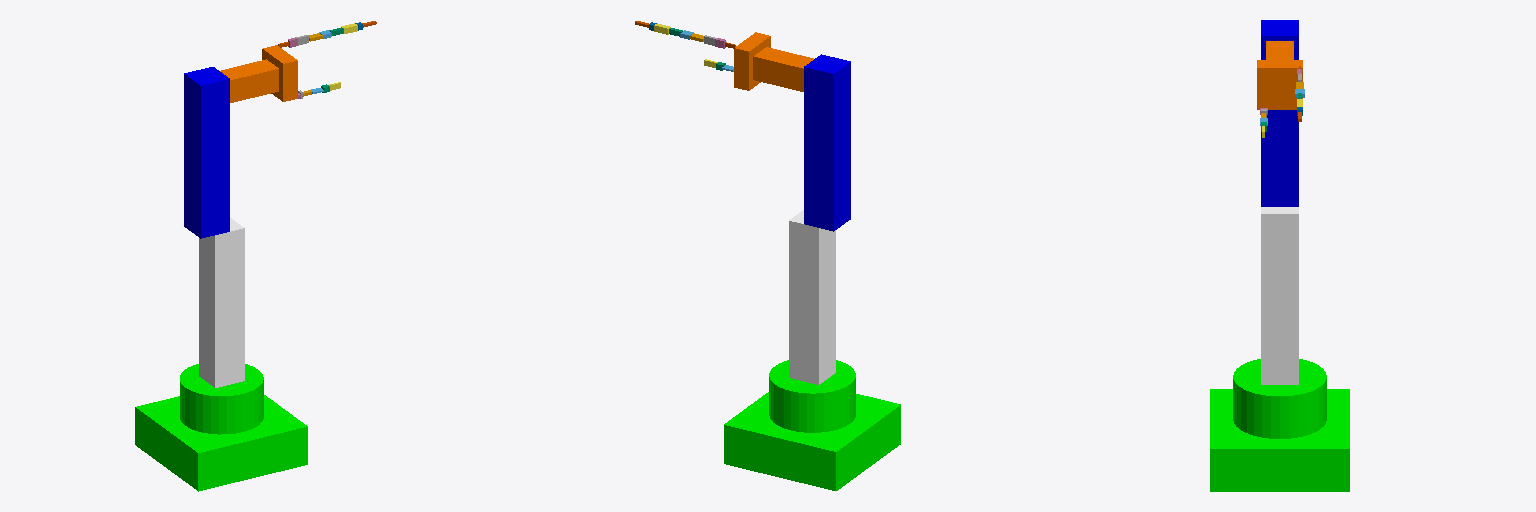
URDF robot description (robot):
<?xml version='1.0' encoding='utf-8'?>
<robot name="robot">
  <link name="base_link">
    <visual>
      <origin xyz="0 0 0.125" rpy="0 0 0" />
      <geometry>
        <box size="0.75 0.75 0.25" />
      </geometry>
      <material name="green" />
    </visual>
    <visual>
      <origin xyz="0 0 0.375" rpy="0 0 0" />
      <geometry>
        <cylinder length="0.25" radius="0.25" />
      </geometry>
      <material name="green">
        <color rgba="0 1 0 1" />
      </material>
    </visual>
    <collision>
      <geometry>
        <box size="0.75 0.75 0.5" />
      </geometry>
    </collision>
    <inertial>
      <mass value="0.5" />
      <inertia ixx="0.034" ixy="0.0" ixz="0.0" iyy="0.034" iyz="0.0" izz="0.034" />
    </inertial>
  </link>
  <link name="support_link">
    <visual>
      <origin xyz="0 0 0.5" rpy="0 0 0" />
      <geometry>
        <box size="0.2 0.2 1" />
      </geometry>
      <material name="white">
        <color rgba="1 1 1 1" />
      </material>
    </visual>
    <collision>
      <geometry>
        <box size="0.2 0.2 1" />
      </geometry>
    </collision>
    <inertial>
      <mass value="0.1" />
      <inertia ixx="0.01" ixy="0.0" ixz="0.0" iyy="0.01" iyz="0.0" izz="0.01" />
    </inertial>
  </link>
  <joint name="support_joint" type="continuous">
    <origin xyz="0 0 0.5" rpy="0 0 0" />
    <parent link="base_link" />
    <child link="support_link" />
    <axis xyz="0 0 1" />
  </joint>
  <link name="arm_link">
    <visual>
      <origin xyz="0 0 0.5" rpy="0 0 0" />
      <geometry>
        <box size="0.2 0.2 1" />
      </geometry>
      <material name="blue">
        <color rgba="0 0 1 1" />
      </material>
    </visual>
    <collision>
      <geometry>
        <box size="0.2 0.2 1" />
      </geometry>
    </collision>
    <inertial>
      <mass value="0.1" />
      <inertia ixx="0.01" ixy="0.0" ixz="0.0" iyy="0.01" iyz="0.0" izz="0.01" />
    </inertial>
  </link>
  <joint name="arm_joint" type="revolute">
    <origin xyz="-0.1 0 1" rpy="0 0 0" />
    <parent link="support_link" />
    <child link="arm_link" />
    <axis xyz="0 1 0" />
    <limit lower="-3.14" upper="3.14" effort="1.0" velocity="1.0" />
  </joint>
  <link name="wrist_link">
    <visual>
      <origin xyz="0 0 0.25" rpy="0 0 0" />
      <geometry>
        <box size="0.15 0.15 0.5" />
      </geometry>
      <material name="orange">
        <color rgba="1 0.5 0 1" />
      </material>
    </visual>
    <collision>
      <geometry>
        <box size="0.15 0.15 0.5" />
      </geometry>
    </collision>
    <inertial>
      <mass value="0.1" />
      <inertia ixx="0.01" ixy="0.0" ixz="0.0" iyy="0.01" iyz="0.0" izz="0.01" />
    </inertial>
  </link>
  <joint name="wrist_joint" type="fixed">
    <origin xyz="0 0 0.9" rpy="0 1.571 0" />
    <parent link="arm_link" />
    <child link="wrist_link" />
  </joint>
  <link name="palm_link">
    <visual>
      <origin xyz="0 0 0.05" rpy="0 0 0" />
      <geometry>
        <box size="0.25 0.25 0.1" />
      </geometry>
      <material name="orange" />
    </visual>
    <collision>
      <geometry>
        <box size="0.25 0.25 0.1" />
      </geometry>
    </collision>
    <inertial>
      <mass value="0.1" />
      <inertia ixx="0.01" ixy="0.0" ixz="0.0" iyy="0.01" iyz="0.0" izz="0.01" />
    </inertial>
  </link>
  <joint name="palm_joint" type="fixed">
    <origin xyz="0 0 0.45" rpy="0 0 0" />
    <parent link="wrist_link" />
    <child link="palm_link" />
  </joint>
  <link name="finger_link_0_0">
    <visual>
      <origin xyz="0 0 0.035" rpy="0 0 0" />
      <geometry>
        <box size="0.024 0.011 0.07" />
      </geometry>
    </visual>
    <collision>
      <geometry>
        <box size="0.024 0.011 0.07" />
      </geometry>
    </collision>
    <inertial>
      <mass value="0.006" />
      <inertia ixx="0.0" iyy="0.0" izz="0.0" ixy="0" ixz="0" iyz="0" />
    </inertial>
  </link>
  <joint name="finger_joint_palm_link_to_finger_link_0_0" type="revolute">
    <origin xyz="-0.125 0.106 0.1" rpy="0 0 0" />
    <parent link="palm_link" />
    <child link="finger_link_0_0" />
    <axis xyz="0.0 1.0 0.0" />
    <limit lower="-3.142" upper="3.142" effort="10" velocity="10" />
  </joint>
  <link name="finger_link_0_1">
    <visual>
      <origin xyz="0 0 0.0285" rpy="0 0 0" />
      <geometry>
        <box size="0.047 0.026 0.057" />
      </geometry>
    </visual>
    <collision>
      <geometry>
        <box size="0.047 0.026 0.057" />
      </geometry>
    </collision>
    <inertial>
      <mass value="0.021" />
      <inertia ixx="0.0" iyy="0.0" izz="0.0" ixy="0" ixz="0" iyz="0" />
    </inertial>
  </link>
  <joint name="finger_joint_finger_link_0_0_to_finger_link_0_1" type="revolute">
    <origin xyz="0.0 0.0 0.07" rpy="0 0 0" />
    <parent link="finger_link_0_0" />
    <child link="finger_link_0_1" />
    <axis xyz="0.0 1.0 0.0" />
    <limit lower="-3.142" upper="3.142" effort="10" velocity="10" />
  </joint>
  <link name="finger_link_0_2">
    <visual>
      <origin xyz="0 0 0.0385" rpy="0 0 0" />
      <geometry>
        <box size="0.047 0.018 0.077" />
      </geometry>
    </visual>
    <collision>
      <geometry>
        <box size="0.047 0.018 0.077" />
      </geometry>
    </collision>
    <inertial>
      <mass value="0.02" />
      <inertia ixx="0.0" iyy="0.0" izz="0.0" ixy="0" ixz="0" iyz="0" />
    </inertial>
  </link>
  <joint name="finger_joint_finger_link_0_1_to_finger_link_0_2" type="revolute">
    <origin xyz="0.0 0.0 0.057" rpy="0 0 0" />
    <parent link="finger_link_0_1" />
    <child link="finger_link_0_2" />
    <axis xyz="0.0 1.0 0.0" />
    <limit lower="-3.142" upper="3.142" effort="10" velocity="10" />
  </joint>
  <link name="finger_link_0_3">
    <visual>
      <origin xyz="0 0 0.0435" rpy="0 0 0" />
      <geometry>
        <box size="0.021 0.043 0.087" />
      </geometry>
    </visual>
    <collision>
      <geometry>
        <box size="0.021 0.043 0.087" />
      </geometry>
    </collision>
    <inertial>
      <mass value="0.024" />
      <inertia ixx="0.0" iyy="0.0" izz="0.0" ixy="0" ixz="0" iyz="0" />
    </inertial>
  </link>
  <joint name="finger_joint_finger_link_0_2_to_finger_link_0_3" type="revolute">
    <origin xyz="0.0 0.0 0.077" rpy="0 0 0" />
    <parent link="finger_link_0_2" />
    <child link="finger_link_0_3" />
    <axis xyz="0.0 1.0 0.0" />
    <limit lower="-3.142" upper="3.142" effort="10" velocity="10" />
  </joint>
  <link name="finger_link_0_4">
    <visual>
      <origin xyz="0 0 0.031" rpy="0 0 0" />
      <geometry>
        <box size="0.027 0.05 0.062" />
      </geometry>
    </visual>
    <collision>
      <geometry>
        <box size="0.027 0.05 0.062" />
      </geometry>
    </collision>
    <inertial>
      <mass value="0.025" />
      <inertia ixx="0.0" iyy="0.0" izz="0.0" ixy="0" ixz="0" iyz="0" />
    </inertial>
  </link>
  <joint name="finger_joint_finger_link_0_3_to_finger_link_0_4" type="revolute">
    <origin xyz="0.0 0.0 0.087" rpy="0 0 0" />
    <parent link="finger_link_0_3" />
    <child link="finger_link_0_4" />
    <axis xyz="0.0 1.0 0.0" />
    <limit lower="-3.142" upper="3.142" effort="10" velocity="10" />
  </joint>
  <link name="finger_link_0_5">
    <visual>
      <origin xyz="0 0 0.0425" rpy="0 0 0" />
      <geometry>
        <box size="0.033 0.022 0.085" />
      </geometry>
    </visual>
    <collision>
      <geometry>
        <box size="0.033 0.022 0.085" />
      </geometry>
    </collision>
    <inertial>
      <mass value="0.019" />
      <inertia ixx="0.0" iyy="0.0" izz="0.0" ixy="0" ixz="0" iyz="0" />
    </inertial>
  </link>
  <joint name="finger_joint_finger_link_0_4_to_finger_link_0_5" type="revolute">
    <origin xyz="0.0 0.0 0.062" rpy="0 0 0" />
    <parent link="finger_link_0_4" />
    <child link="finger_link_0_5" />
    <axis xyz="0.0 1.0 0.0" />
    <limit lower="-3.142" upper="3.142" effort="10" velocity="10" />
  </joint>
  <link name="finger_link_0_6">
    <visual>
      <origin xyz="0 0 0.0475" rpy="0 0 0" />
      <geometry>
        <box size="0.039 0.034 0.095" />
      </geometry>
    </visual>
    <collision>
      <geometry>
        <box size="0.039 0.034 0.095" />
      </geometry>
    </collision>
    <inertial>
      <mass value="0.038" />
      <inertia ixx="0.0" iyy="0.0" izz="0.0" ixy="0" ixz="0" iyz="0" />
    </inertial>
  </link>
  <joint name="finger_joint_finger_link_0_5_to_finger_link_0_6" type="revolute">
    <origin xyz="0.0 0.0 0.085" rpy="0 0 0" />
    <parent link="finger_link_0_5" />
    <child link="finger_link_0_6" />
    <axis xyz="0.0 1.0 0.0" />
    <limit lower="-3.142" upper="3.142" effort="10" velocity="10" />
  </joint>
  <link name="finger_link_0_7">
    <visual>
      <origin xyz="0 0 0.018" rpy="0 0 0" />
      <geometry>
        <box size="0.035 0.034 0.036" />
      </geometry>
    </visual>
    <collision>
      <geometry>
        <box size="0.035 0.034 0.036" />
      </geometry>
    </collision>
    <inertial>
      <mass value="0.013" />
      <inertia ixx="0.0" iyy="0.0" izz="0.0" ixy="0" ixz="0" iyz="0" />
    </inertial>
  </link>
  <joint name="finger_joint_finger_link_0_6_to_finger_link_0_7" type="revolute">
    <origin xyz="0.0 0.0 0.095" rpy="0 0 0" />
    <parent link="finger_link_0_6" />
    <child link="finger_link_0_7" />
    <axis xyz="0.0 1.0 0.0" />
    <limit lower="-3.142" upper="3.142" effort="10" velocity="10" />
  </joint>
  <link name="finger_link_0_8">
    <visual>
      <origin xyz="0 0 0.0485" rpy="0 0 0" />
      <geometry>
        <box size="0.016 0.024 0.097" />
      </geometry>
    </visual>
    <collision>
      <geometry>
        <box size="0.016 0.024 0.097" />
      </geometry>
    </collision>
    <inertial>
      <mass value="0.011" />
      <inertia ixx="0.0" iyy="0.0" izz="0.0" ixy="0" ixz="0" iyz="0" />
    </inertial>
  </link>
  <joint name="finger_joint_finger_link_0_7_to_finger_link_0_8" type="revolute">
    <origin xyz="0.0 0.0 0.036" rpy="0 0 0" />
    <parent link="finger_link_0_7" />
    <child link="finger_link_0_8" />
    <axis xyz="0.0 1.0 0.0" />
    <limit lower="-3.142" upper="3.142" effort="10" velocity="10" />
  </joint>
  <link name="finger_link_1_0">
    <visual>
      <origin xyz="0 0 0.0165" rpy="0 0 0" />
      <geometry>
        <box size="0.022 0.044 0.033" />
      </geometry>
    </visual>
    <collision>
      <geometry>
        <box size="0.022 0.044 0.033" />
      </geometry>
    </collision>
    <inertial>
      <mass value="0.01" />
      <inertia ixx="0.0" iyy="0.0" izz="0.0" ixy="0" ixz="0" iyz="0" />
    </inertial>
  </link>
  <joint name="finger_joint_palm_link_to_finger_link_1_0" type="revolute">
    <origin xyz="0.125 -0.086 0.1" rpy="0 0 0" />
    <parent link="palm_link" />
    <child link="finger_link_1_0" />
    <axis xyz="0.0 1.0 0.0" />
    <limit lower="-3.142" upper="3.142" effort="10" velocity="10" />
  </joint>
  <link name="finger_link_1_1">
    <visual>
      <origin xyz="0 0 0.009" rpy="0 0 0" />
      <geometry>
        <box size="0.041 0.03 0.018" />
      </geometry>
    </visual>
    <collision>
      <geometry>
        <box size="0.041 0.03 0.018" />
      </geometry>
    </collision>
    <inertial>
      <mass value="0.007" />
      <inertia ixx="0.0" iyy="0.0" izz="0.0" ixy="0" ixz="0" iyz="0" />
    </inertial>
  </link>
  <joint name="finger_joint_finger_link_1_0_to_finger_link_1_1" type="revolute">
    <origin xyz="0.0 0.0 0.033" rpy="0 0 0" />
    <parent link="finger_link_1_0" />
    <child link="finger_link_1_1" />
    <axis xyz="0.0 1.0 0.0" />
    <limit lower="-3.142" upper="3.142" effort="10" velocity="10" />
  </joint>
  <link name="finger_link_1_2">
    <visual>
      <origin xyz="0 0 0.0315" rpy="0 0 0" />
      <geometry>
        <box size="0.018 0.027 0.063" />
      </geometry>
    </visual>
    <collision>
      <geometry>
        <box size="0.018 0.027 0.063" />
      </geometry>
    </collision>
    <inertial>
      <mass value="0.009" />
      <inertia ixx="0.0" iyy="0.0" izz="0.0" ixy="0" ixz="0" iyz="0" />
    </inertial>
  </link>
  <joint name="finger_joint_finger_link_1_1_to_finger_link_1_2" type="revolute">
    <origin xyz="0.0 0.0 0.018" rpy="0 0 0" />
    <parent link="finger_link_1_1" />
    <child link="finger_link_1_2" />
    <axis xyz="0.0 1.0 0.0" />
    <limit lower="-3.142" upper="3.142" effort="10" velocity="10" />
  </joint>
  <link name="finger_link_1_3">
    <visual>
      <origin xyz="0 0 0.037" rpy="0 0 0" />
      <geometry>
        <box size="0.011 0.045 0.074" />
      </geometry>
    </visual>
    <collision>
      <geometry>
        <box size="0.011 0.045 0.074" />
      </geometry>
    </collision>
    <inertial>
      <mass value="0.011" />
      <inertia ixx="0.0" iyy="0.0" izz="0.0" ixy="0" ixz="0" iyz="0" />
    </inertial>
  </link>
  <joint name="finger_joint_finger_link_1_2_to_finger_link_1_3" type="revolute">
    <origin xyz="0.0 0.0 0.063" rpy="0 0 0" />
    <parent link="finger_link_1_2" />
    <child link="finger_link_1_3" />
    <axis xyz="0.0 1.0 0.0" />
    <limit lower="-3.142" upper="3.142" effort="10" velocity="10" />
  </joint>
  <link name="finger_link_1_4">
    <visual>
      <origin xyz="0 0 0.0215" rpy="0 0 0" />
      <geometry>
        <box size="0.035 0.035 0.043" />
      </geometry>
    </visual>
    <collision>
      <geometry>
        <box size="0.035 0.035 0.043" />
      </geometry>
    </collision>
    <inertial>
      <mass value="0.016" />
      <inertia ixx="0.0" iyy="0.0" izz="0.0" ixy="0" ixz="0" iyz="0" />
    </inertial>
  </link>
  <joint name="finger_joint_finger_link_1_3_to_finger_link_1_4" type="revolute">
    <origin xyz="0.0 0.0 0.074" rpy="0 0 0" />
    <parent link="finger_link_1_3" />
    <child link="finger_link_1_4" />
    <axis xyz="0.0 1.0 0.0" />
    <limit lower="-3.142" upper="3.142" effort="10" velocity="10" />
  </joint>
  <link name="finger_link_1_5">
    <visual>
      <origin xyz="0 0 0.042" rpy="0 0 0" />
      <geometry>
        <box size="0.035 0.015 0.084" />
      </geometry>
    </visual>
    <collision>
      <geometry>
        <box size="0.035 0.015 0.084" />
      </geometry>
    </collision>
    <inertial>
      <mass value="0.013" />
      <inertia ixx="0.0" iyy="0.0" izz="0.0" ixy="0" ixz="0" iyz="0" />
    </inertial>
  </link>
  <joint name="finger_joint_finger_link_1_4_to_finger_link_1_5" type="revolute">
    <origin xyz="0.0 0.0 0.043" rpy="0 0 0" />
    <parent link="finger_link_1_4" />
    <child link="finger_link_1_5" />
    <axis xyz="0.0 1.0 0.0" />
    <limit lower="-3.142" upper="3.142" effort="10" velocity="10" />
  </joint>
</robot>

--- Render facts (derived) ---
Views: 3 orthographic renders of the robot side by side, from view 1: azimuth 30°, elevation 25°; view 2: azimuth 150°, elevation 25°; view 3: azimuth 270°, elevation 25°.
Model robot with 20 links and 19 joints (16 revolute, 1 continuous, 2 fixed), rooted at base_link, posed every joint at zero.
Visible links, largest first — view 1: base_link, arm_link, support_link, wrist_link, palm_link; view 2: base_link, arm_link, support_link, wrist_link, palm_link; view 3: base_link, support_link, arm_link, palm_link, wrist_link.
Boxes of the visible links, <box> form: base_link: <box>135,364,307,491</box>; arm_link: <box>184,67,229,238</box>; support_link: <box>199,218,244,387</box>; wrist_link: <box>220,59,278,102</box>; palm_link: <box>262,45,297,101</box>; base_link: <box>724,360,900,490</box>; arm_link: <box>804,54,850,231</box>; support_link: <box>789,210,835,384</box>; wrist_link: <box>753,47,813,91</box>; palm_link: <box>734,32,770,90</box>; base_link: <box>1210,359,1349,491</box>; support_link: <box>1261,207,1298,384</box>; arm_link: <box>1261,20,1298,206</box>; palm_link: <box>1257,60,1302,109</box>; wrist_link: <box>1266,41,1293,59</box>.
Bounding box of the posed robot: 1.49 × 0.75 × 2.55 m (x, y, z).
Geometry: primitives only (box / cylinder / sphere), no mesh files.